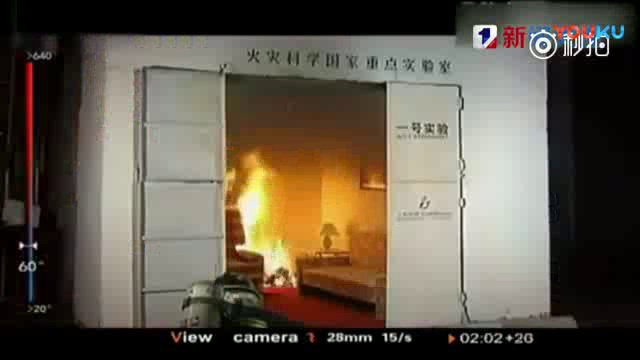fire: (237, 154, 298, 286)
